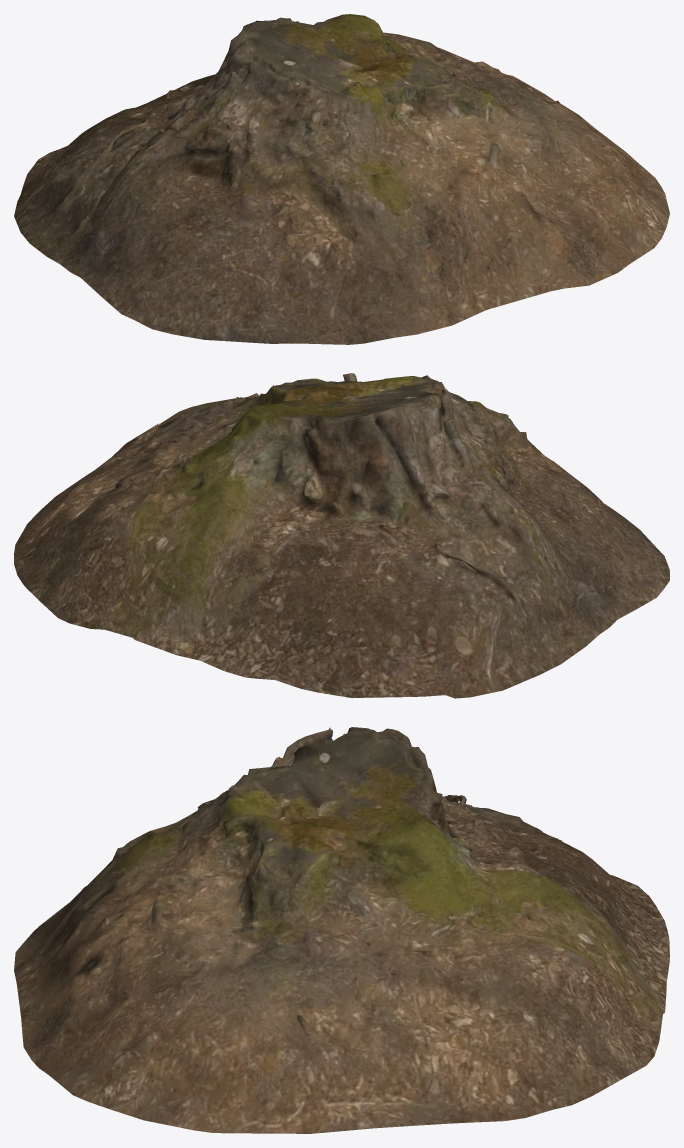
Rendered from tree_stump_02.glb.
The picture shows the model from 3 angles, top to bottom: view 1: azimuth 30°, elevation 25°; view 2: azimuth 150°, elevation 25°; view 3: azimuth 270°, elevation 25°; orthographic projection. The views are drawn at different scales.
Visible parts, largest first — view 1: tree_stump_02; view 2: tree_stump_02; view 3: tree_stump_02.
Boxes of the visible parts, x1,y1,x2,y2 form: tree_stump_02: (14,14,669,344); tree_stump_02: (14,373,669,698); tree_stump_02: (14,727,669,1133).
Bounding box in the file's own units: 1.52 × 0.5214 × 1.39.
1 material, 1 textured.
